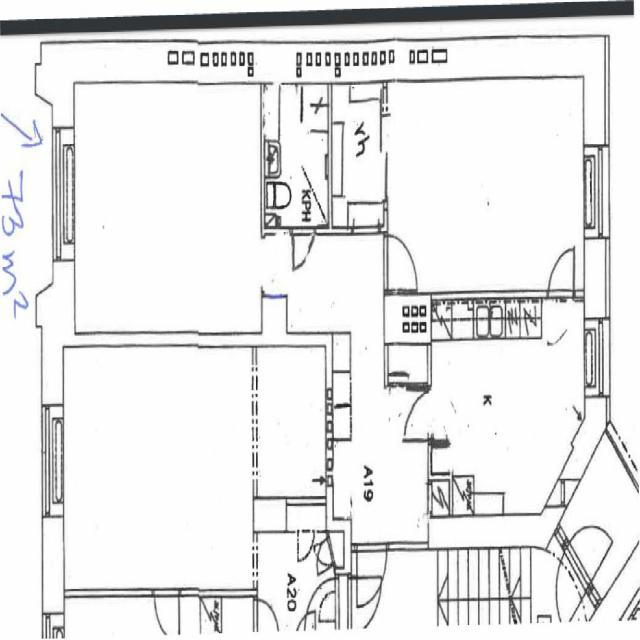door: (384, 237, 417, 290), (357, 542, 386, 602), (401, 390, 432, 440), (549, 247, 574, 300), (292, 226, 314, 274)
